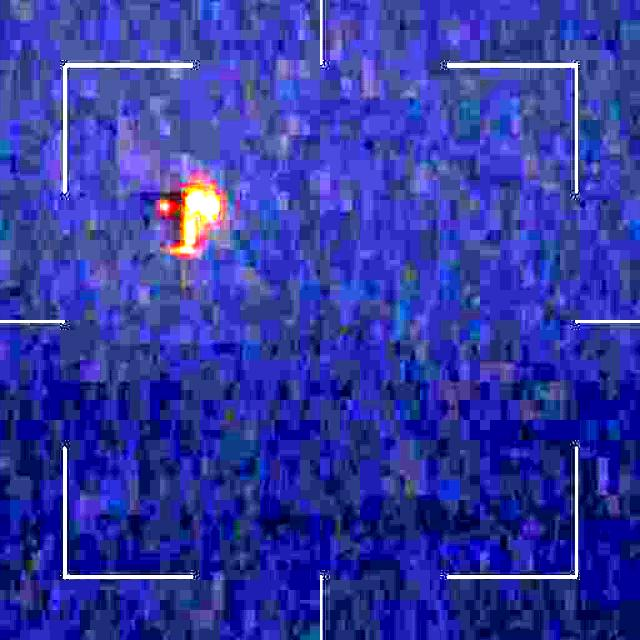bird: (142, 175, 221, 255)
